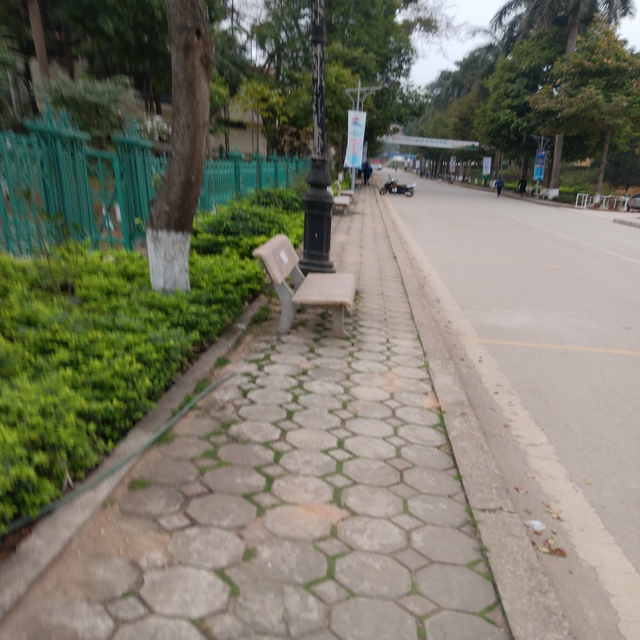gheda: (246, 230, 376, 346), (322, 181, 358, 223)
